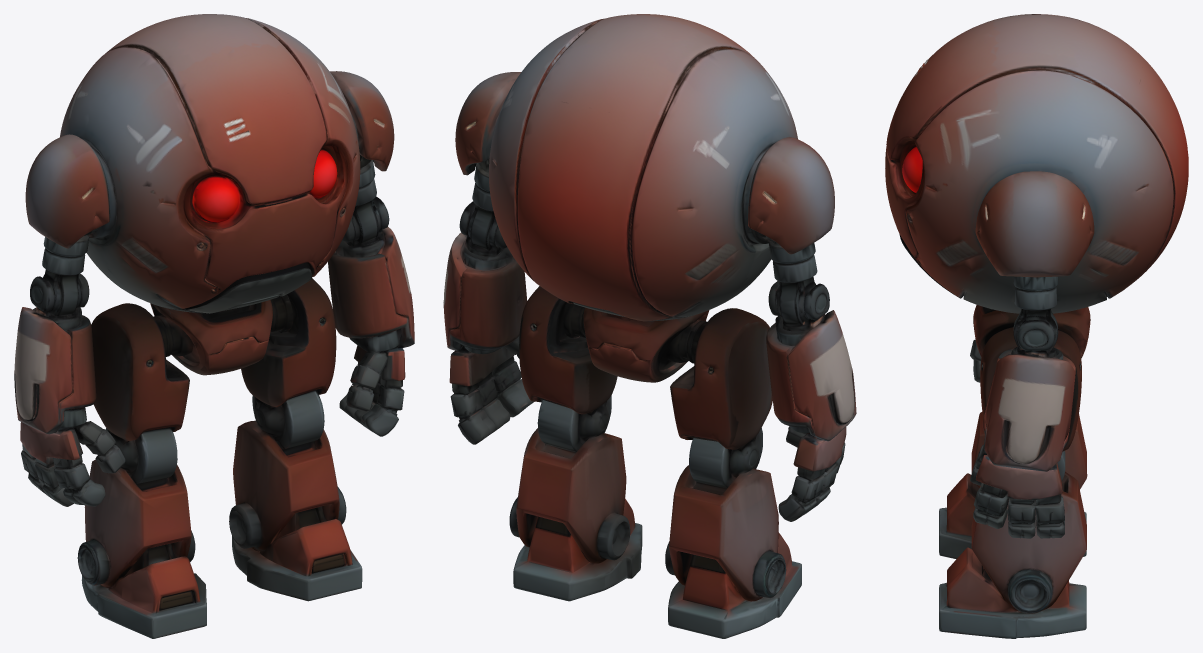
The model's file is 普通敌人.glb.
3 views of the same model, side by side, from view 1: azimuth 30°, elevation 25°; view 2: azimuth 150°, elevation 25°; view 3: azimuth 270°, elevation 25° (orthographic). The views are drawn at different scales.
Visible parts, largest first — view 1: node_0; view 2: node_0; view 3: node_0.
Boxes of the visible parts, x1=… form: node_0: x1=14, y1=14, x2=414, y2=638; node_0: x1=443, y1=14, x2=856, y2=638; node_0: x1=885, y1=14, x2=1188, y2=638.
Bounding box in the file's own units: 0.7882 × 1.07 × 0.5344.
Materials: 1 (1 with a texture image).
